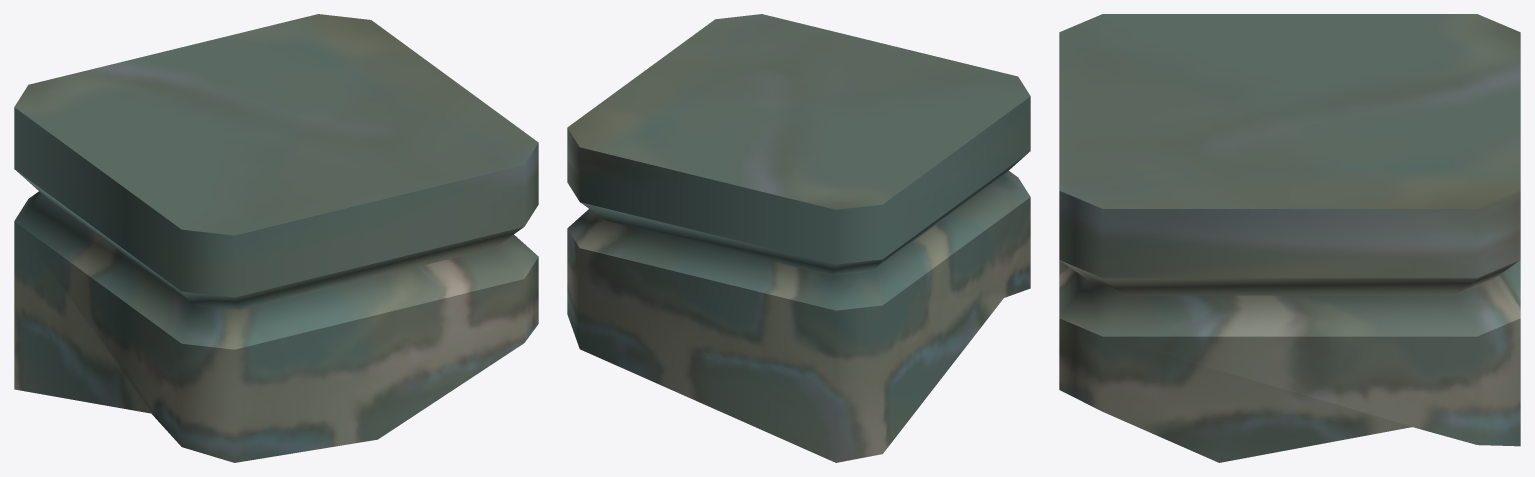
The model's file is HalfWall_Joint_02_Cap.fbx.
The picture shows the model from 3 angles, left to right: view 1: azimuth 30°, elevation 25°; view 2: azimuth 150°, elevation 25°; view 3: azimuth 270°, elevation 25°; orthographic projection. The views are drawn at different scales.
Parts seen in each view (by area): view 1: HalfWall_Joint_02.001; view 2: HalfWall_Joint_02.001; view 3: HalfWall_Joint_02.001.
Boxes of the visible parts, x1,y1,x2,y2 form: HalfWall_Joint_02.001: (14,14,538,462); HalfWall_Joint_02.001: (567,14,1030,462); HalfWall_Joint_02.001: (1059,14,1520,462).
Bounding box in the file's own units: 100 × 76.66 × 100.
